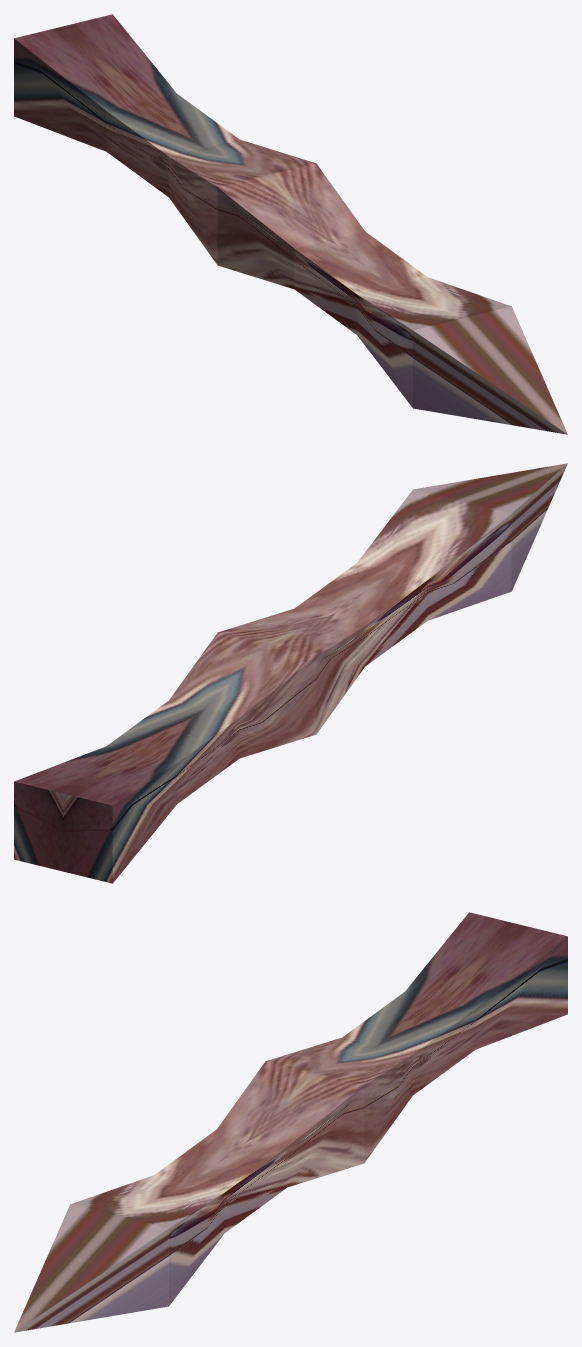
3 renders of one model, top to bottom at view 1: azimuth 30°, elevation 25°; view 2: azimuth 150°, elevation 25°; view 3: azimuth 330°, elevation 25°, orthographic.
Parts seen in each view (by area): view 1: Spike_Cube.011; view 2: Spike_Cube.011; view 3: Spike_Cube.011.
Part boxes in pixels (box(x1,y1,x2,y2)): Spike_Cube.011: box(14, 14, 567, 434); Spike_Cube.011: box(14, 463, 567, 883); Spike_Cube.011: box(14, 912, 567, 1332).
Size of the model in its own units: 1.39 by 1.05 by 12.34.
